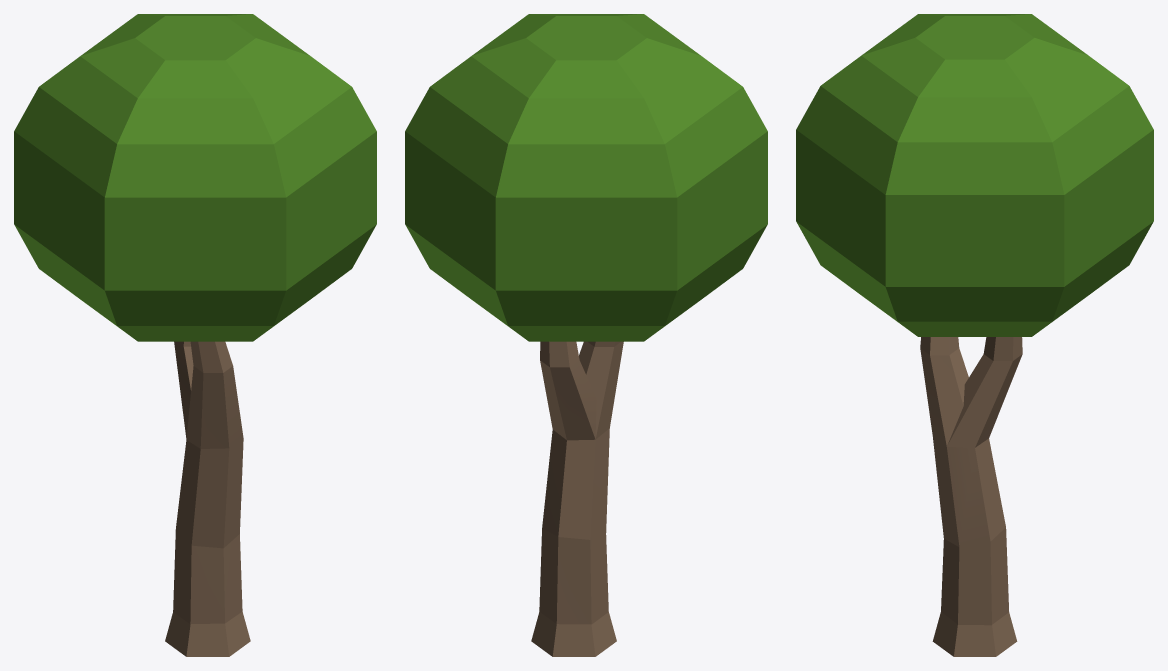
File: Tree2.fbx
3 views of the same model, side by side, from view 1: azimuth 30°, elevation 25°; view 2: azimuth 150°, elevation 25°; view 3: azimuth 270°, elevation 25° (orthographic).
Visible parts, largest first — view 1: mergedBlocks; view 2: mergedBlocks; view 3: mergedBlocks.
Boxes of the visible parts, bbox=[...] form: mergedBlocks: bbox=[14, 14, 376, 656]; mergedBlocks: bbox=[405, 14, 767, 656]; mergedBlocks: bbox=[796, 14, 1153, 656].
Size of the model in its own units: 21.97 by 46.78 by 25.37.
